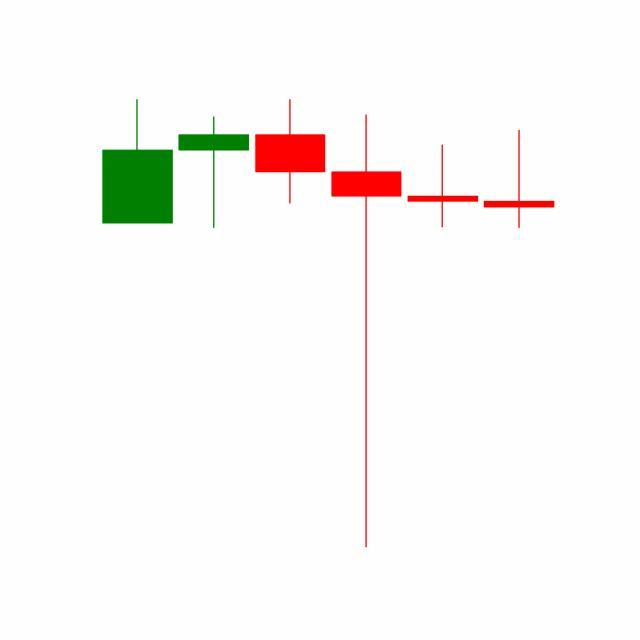Spinning Top: (404, 144, 482, 230)
